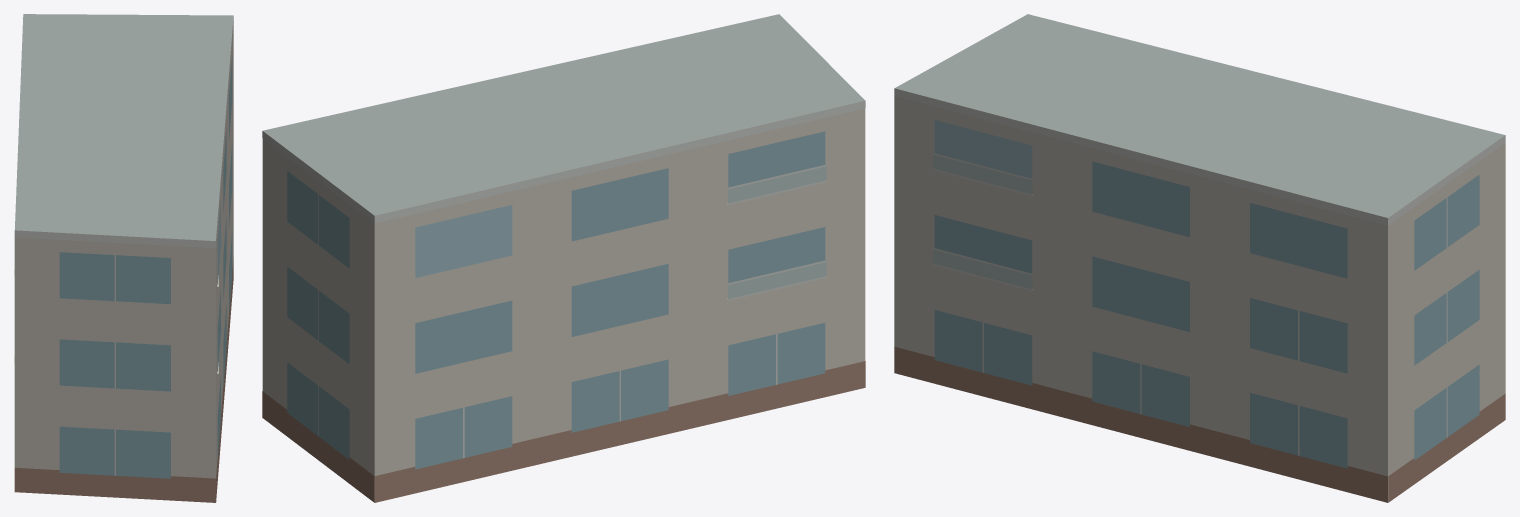
Rendered from survey-upis-32963790.glb.
3 views of the same model, side by side, from view 1: azimuth 30°, elevation 25°; view 2: azimuth 150°, elevation 25°; view 3: azimuth 270°, elevation 25° (orthographic). The views are drawn at different scales.
Parts seen in each view (by area): view 1: survey-upis-32963790.tmp; view 2: survey-upis-32963790.tmp; view 3: survey-upis-32963790.tmp.
Boxes of the visible parts, left/top/right/bottom form: survey-upis-32963790.tmp: left=14, top=14, right=233, bottom=502; survey-upis-32963790.tmp: left=262, top=14, right=865, bottom=502; survey-upis-32963790.tmp: left=894, top=14, right=1505, bottom=502.
Size of the model in its own units: 13.99 by 9.1 by 17.71.
